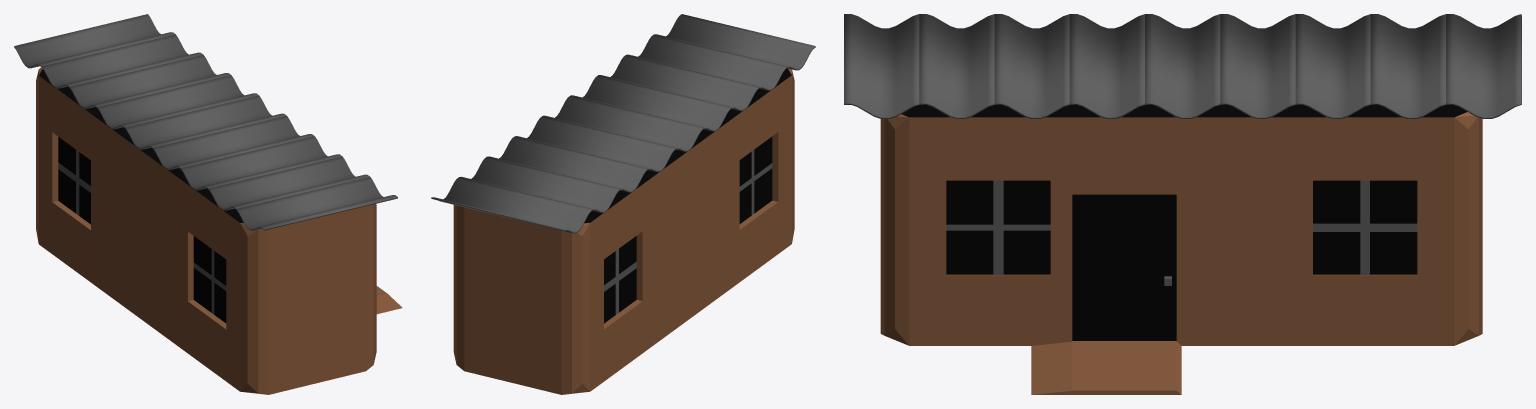
File: low poly house.fbx
3 views of the same model, side by side, from view 1: azimuth 30°, elevation 25°; view 2: azimuth 150°, elevation 25°; view 3: azimuth 270°, elevation 25° (orthographic). The views are drawn at different scales.
Visible parts, largest first — view 1: walls, roof; view 2: walls, roof; view 3: walls, roof.
Boxes of the visible parts, x1,y1,x2,y2 form: walls: (36, 67, 402, 394); roof: (14, 14, 397, 230); walls: (453, 68, 794, 394); roof: (431, 14, 815, 233); walls: (880, 105, 1482, 394); roof: (844, 14, 1521, 118).
Size of the model in its own units: 622 by 515 by 1298.
